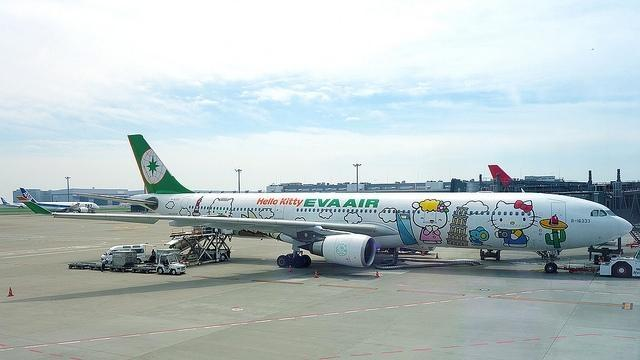truck: (136, 250, 187, 274), (600, 246, 640, 276), (101, 244, 146, 263)
